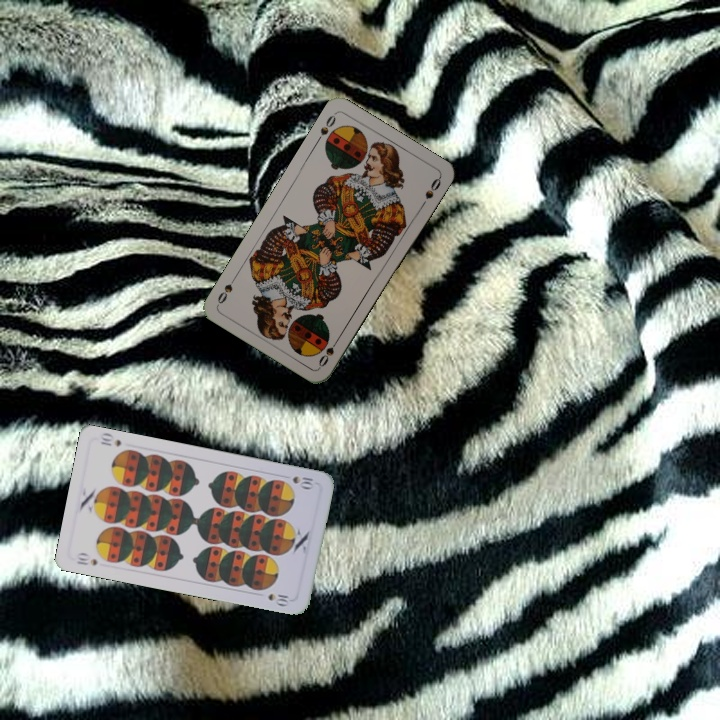S10: (289, 472, 316, 492), (72, 549, 99, 568)
SO: (312, 109, 339, 146), (315, 333, 342, 369)
